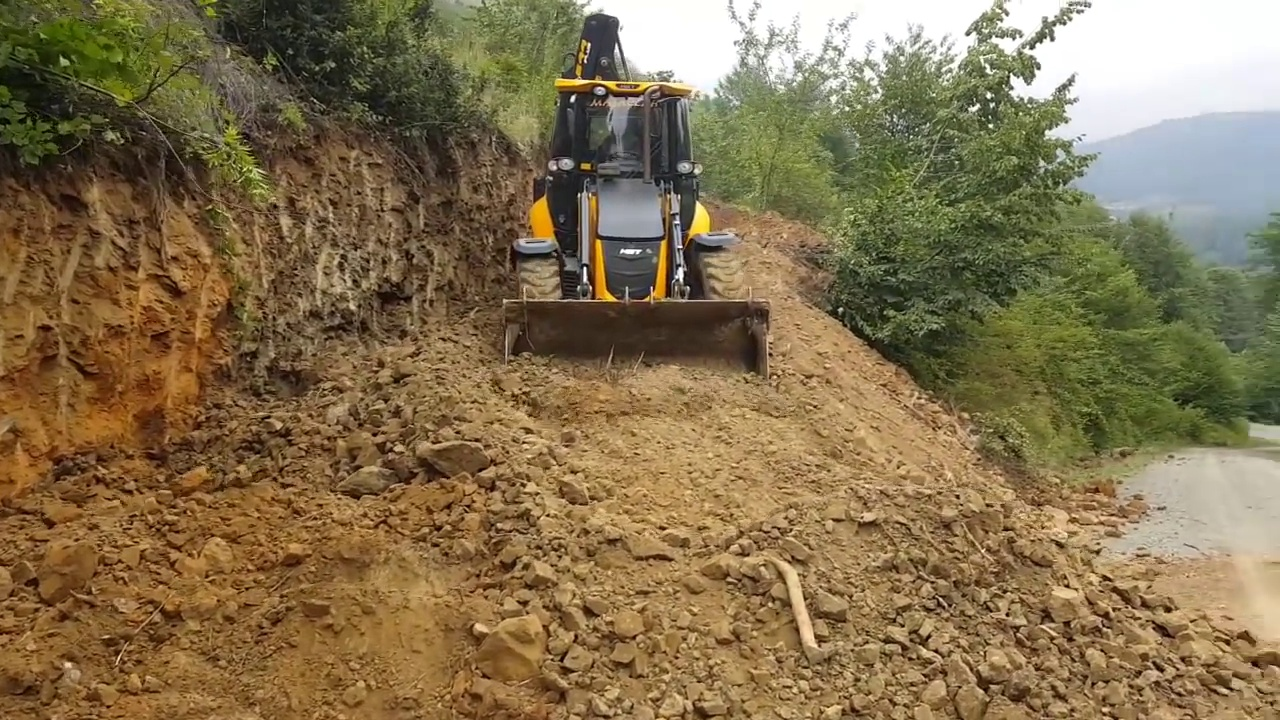wheel loader: (496, 11, 775, 418)
